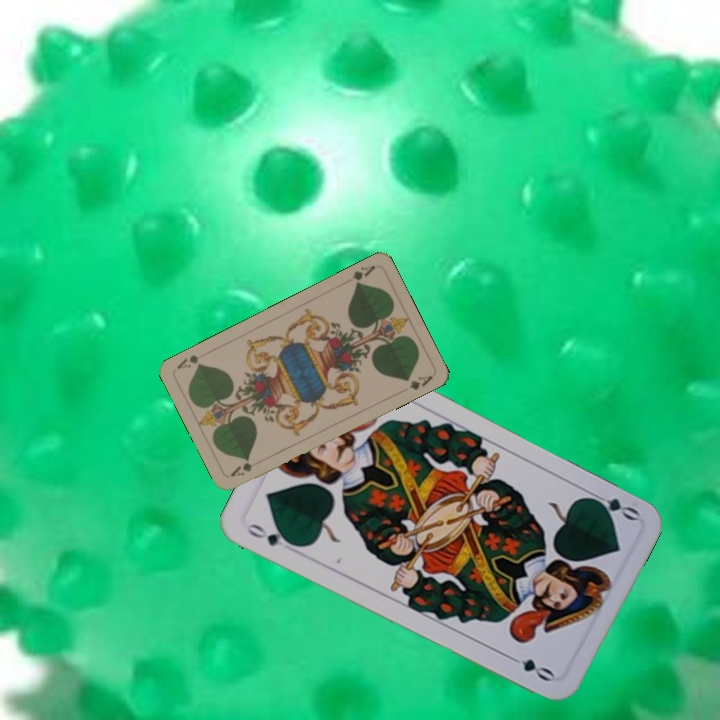GA: (226, 455, 265, 479), (348, 261, 378, 289)
GO: (583, 487, 642, 524), (243, 519, 299, 549)
